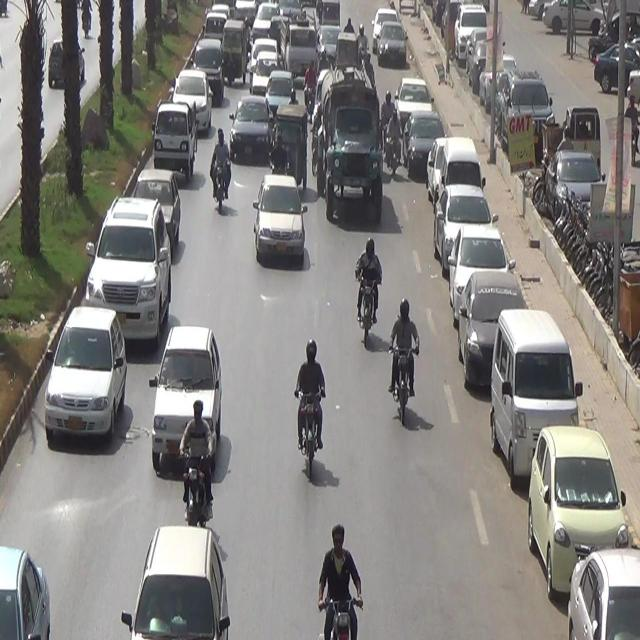car: (63, 186, 172, 371), (33, 305, 132, 460), (310, 61, 390, 232), (123, 530, 236, 640), (149, 324, 228, 480), (255, 177, 321, 270), (177, 63, 220, 128), (230, 92, 268, 163), (193, 35, 227, 111)
motorbike: (305, 522, 370, 640), (291, 342, 340, 487), (391, 290, 430, 435), (177, 389, 219, 522), (343, 241, 391, 349), (207, 120, 238, 226), (382, 78, 403, 184)
truck: (148, 94, 202, 190)
